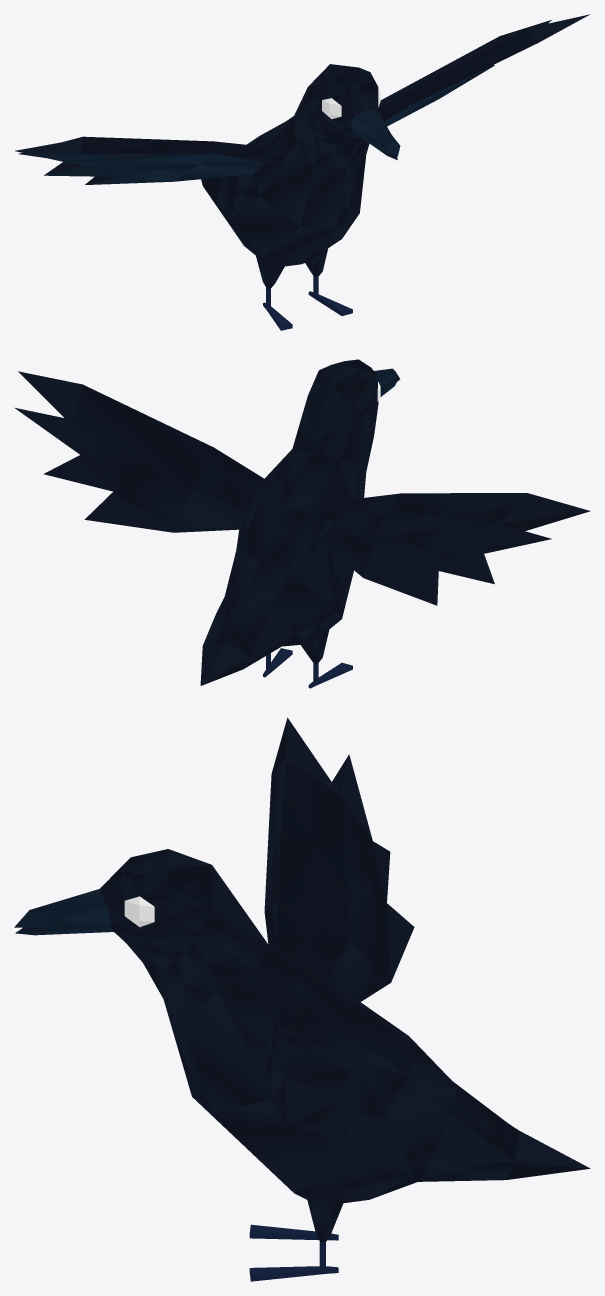
Rendered from low-poly-animals--frog--frogglet--crow-c001be.glb.
3 renders of one model, top to bottom at view 1: azimuth 30°, elevation 25°; view 2: azimuth 150°, elevation 25°; view 3: azimuth 270°, elevation 25°, orthographic. The views are drawn at different scales.
Parts seen in each view (by area): view 1: PropMesh; view 2: PropMesh; view 3: PropMesh.
Boxes of the visible parts, x1,y1,x2,y2 form: PropMesh: [15, 14, 589, 330]; PropMesh: [14, 359, 590, 688]; PropMesh: [14, 717, 590, 1281].
Size of the model in its own units: 0.8703 by 0.4 by 0.5191.
Materials: 1 (1 with a texture image).
